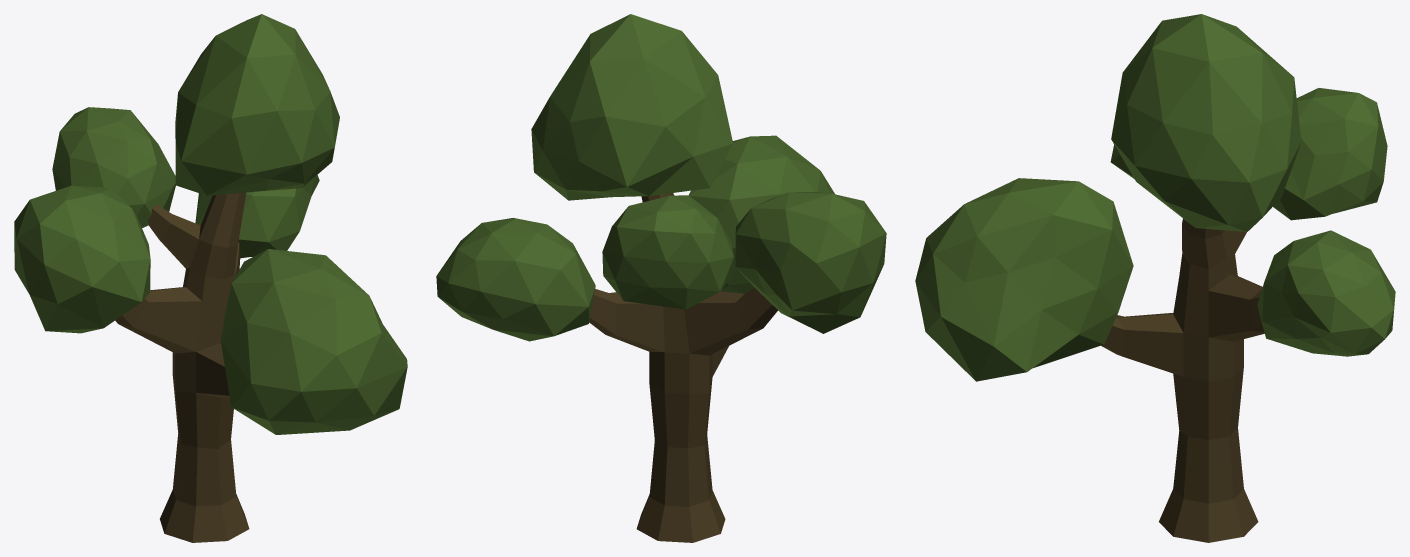
Rendered from pohon.fbx.
3 renders of one model, left to right at view 1: azimuth 30°, elevation 25°; view 2: azimuth 150°, elevation 25°; view 3: azimuth 270°, elevation 25°, orthographic. The views are drawn at different scales.
Parts seen in each view (by area): view 1: Cylinder_001; view 2: Cylinder_001; view 3: Cylinder_001.
Boxes of the visible parts, x1,y1,x2,y2 form: Cylinder_001: (14,14,407,542); Cylinder_001: (436,14,886,542); Cylinder_001: (915,14,1395,542).
Size of the model in its own units: 4.02 by 5.38 by 4.37.
